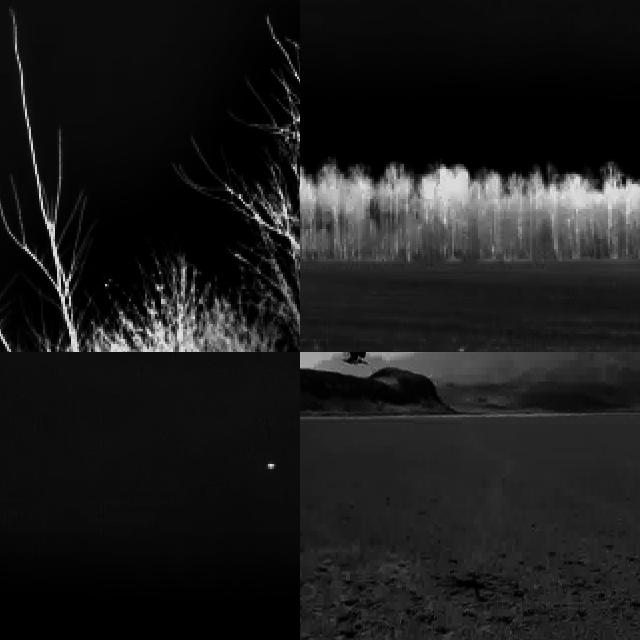1: (255, 456, 279, 482)
drone: (322, 352, 390, 368)
